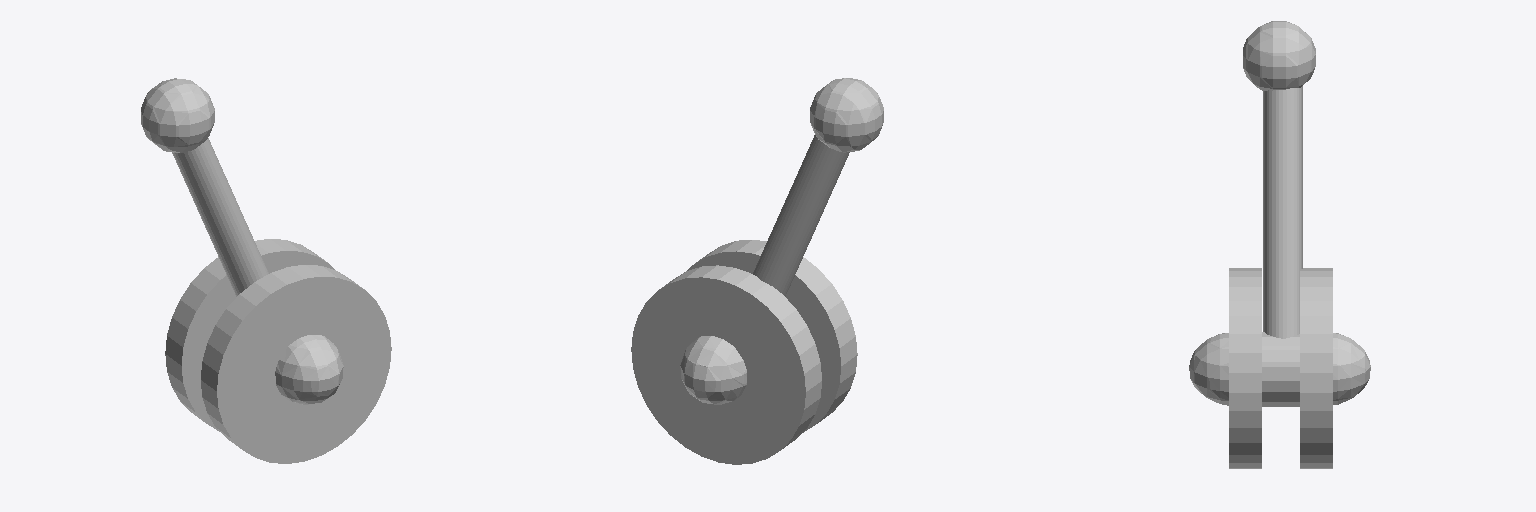
File: sideLevel.obj
3 renders of one model, left to right at view 1: azimuth 30°, elevation 25°; view 2: azimuth 150°, elevation 25°; view 3: azimuth 270°, elevation 25°, orthographic.
Parts seen in each view (by area): view 1: Cylinder, Mball, Cylinder.003, Cylinder.002; view 2: Cylinder.003, Mball, Cylinder, Cylinder.002; view 3: Mball, Cylinder.002, Cylinder, Cylinder.003.
Boxes of the visible parts, <box> form: Cylinder: <box>201,265,391,463</box>; Mball: <box>141,78,343,404</box>; Cylinder.003: <box>165,239,334,431</box>; Cylinder.002: <box>172,138,268,296</box>; Cylinder.003: <box>631,265,821,464</box>; Mball: <box>680,78,883,404</box>; Cylinder: <box>687,240,857,432</box>; Cylinder.002: <box>753,135,849,296</box>; Mball: <box>1189,21,1370,406</box>; Cylinder.002: <box>1263,86,1302,338</box>; Cylinder: <box>1229,268,1261,468</box>; Cylinder.003: <box>1300,268,1332,468</box>.
Size of the model in its own units: 0.7763 by 1.3 by 0.5535.